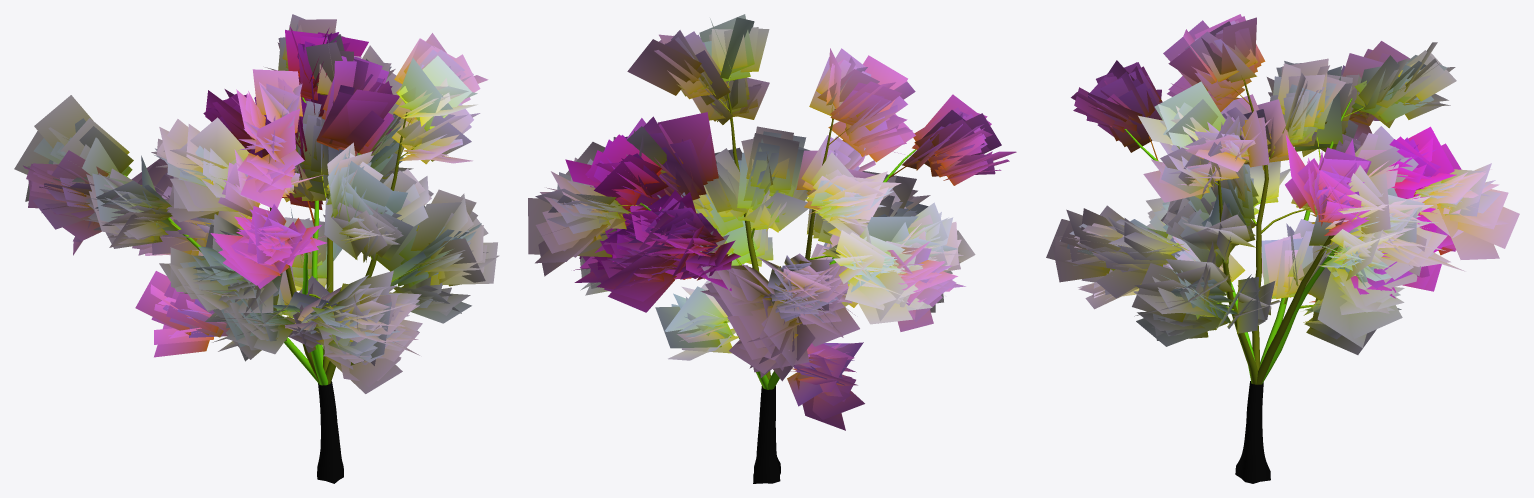
The model's file is tree_zelkova_d.glb.
3 views of the same model, side by side, from view 1: azimuth 30°, elevation 25°; view 2: azimuth 150°, elevation 25°; view 3: azimuth 270°, elevation 25° (orthographic).
Parts seen in each view (by area): view 1: tree_zelkova_d; view 2: tree_zelkova_d; view 3: tree_zelkova_d.
Boxes of the visible parts, x1,y1,x2,y2 form: tree_zelkova_d: (14,14,499,483); tree_zelkova_d: (528,14,1016,483); tree_zelkova_d: (1046,14,1519,483).
Bounding box in the file's own units: 14.89 × 15.17 × 15.25.
